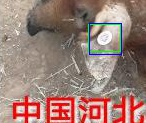text: (88, 24, 120, 51)
